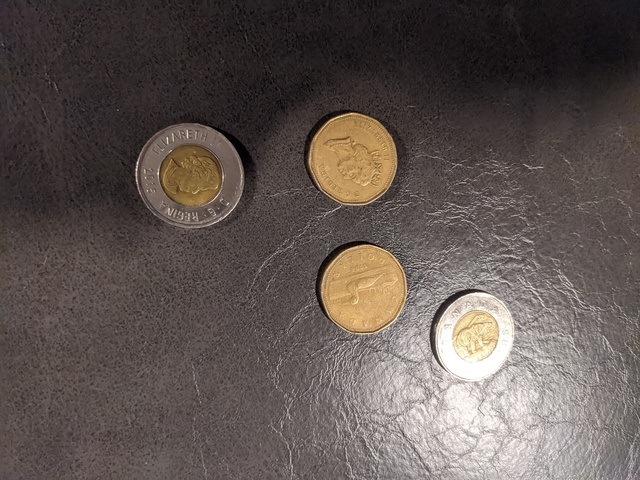loonie: (311, 103, 407, 209), (313, 241, 411, 338)
twonie: (132, 121, 261, 227), (430, 289, 514, 379)
